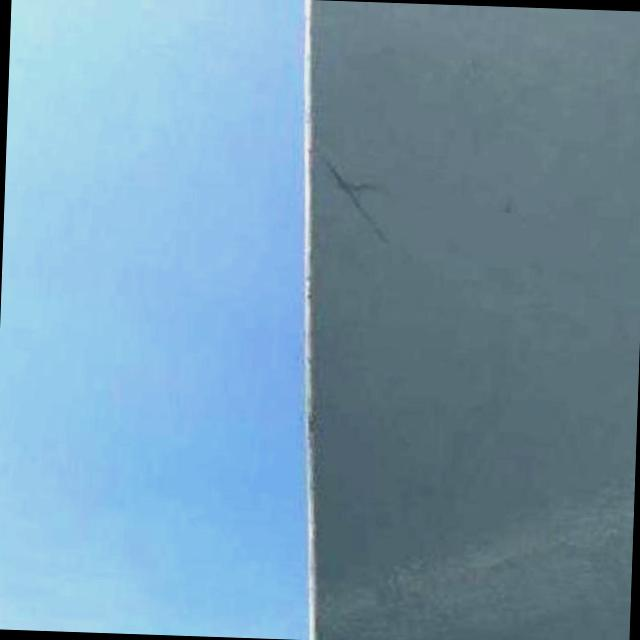crack: (312, 152, 386, 238)
